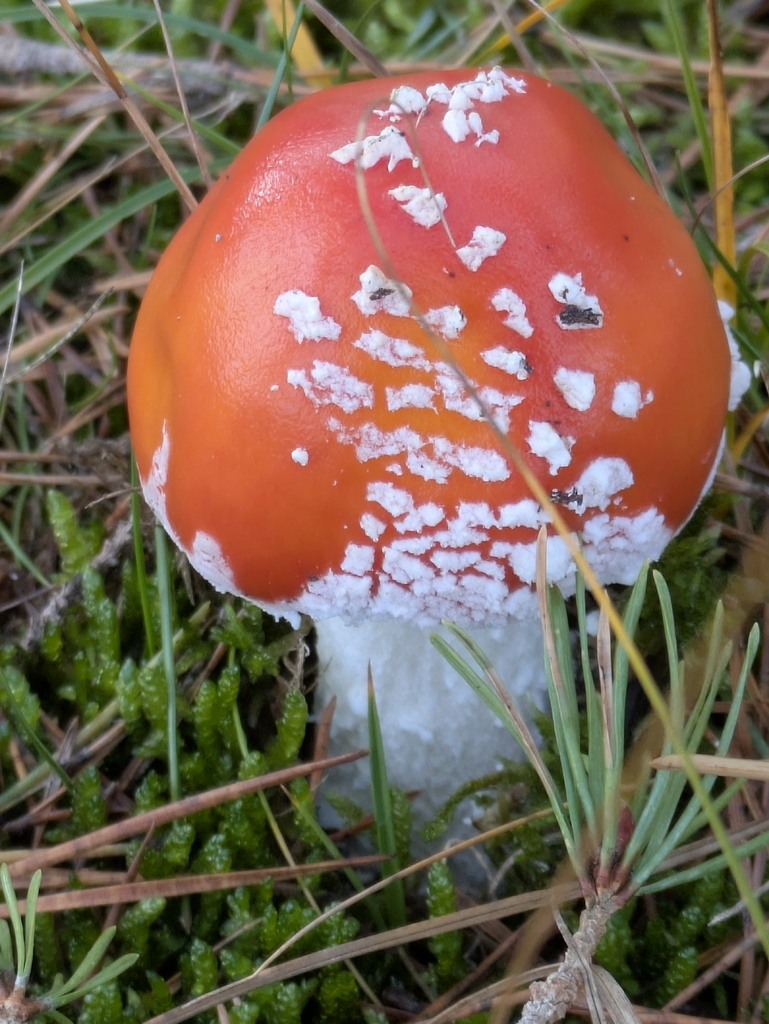Cap: (127, 66, 745, 626)
Stem: (315, 618, 522, 828), (471, 620, 546, 718)
